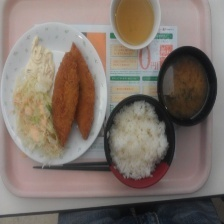rice: (106, 97, 172, 184)
